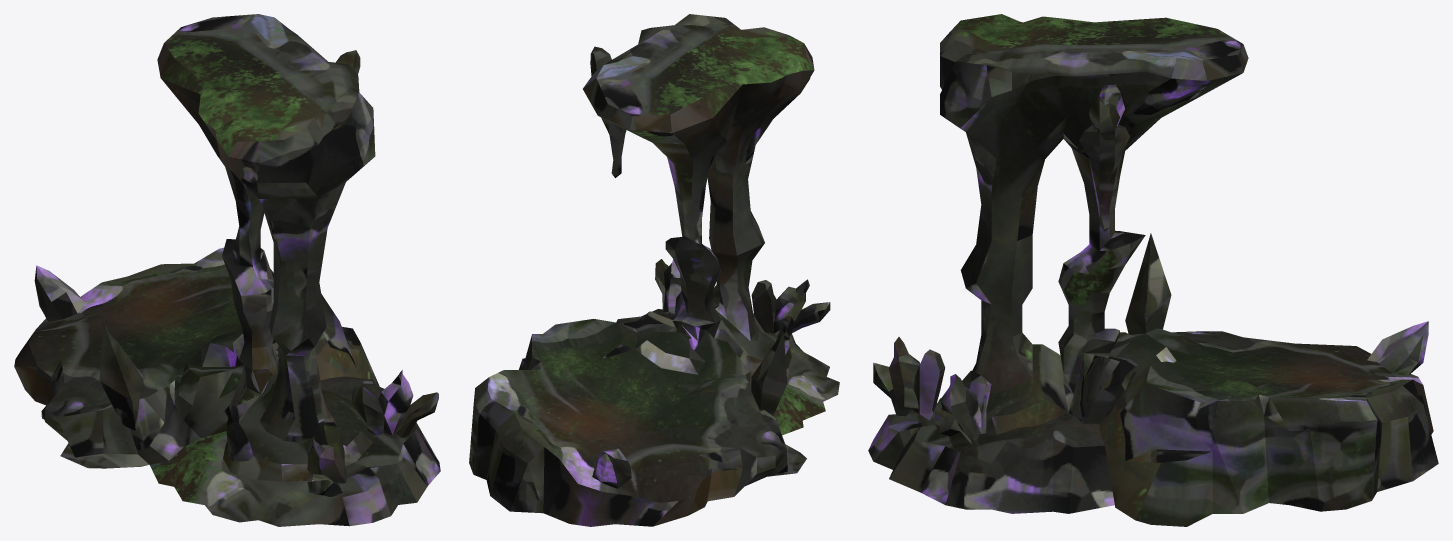
Rendered from BGEAsset1.fbx.
The picture shows the model from 3 angles, left to right: view 1: azimuth 30°, elevation 25°; view 2: azimuth 150°, elevation 25°; view 3: azimuth 270°, elevation 25°; orthographic projection. The views are drawn at different scales.
Parts seen in each view (by area): view 1: BGEAsset.002; view 2: BGEAsset.002; view 3: BGEAsset.002.
Part boxes in pixels (x1,y1,x2,y2): BGEAsset.002: (14,14,440,526); BGEAsset.002: (469,14,839,526); BGEAsset.002: (868,14,1438,526).
Bounding box in the file's own units: 14.65 × 17.58 × 21.68.
1 material, 1 textured.
